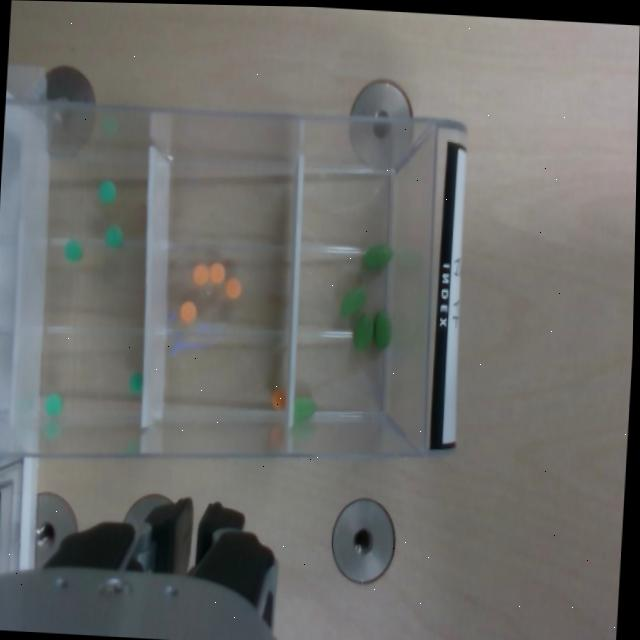famodine: (97, 178, 117, 203), (63, 237, 83, 261), (105, 225, 123, 248), (43, 393, 61, 416), (128, 371, 144, 394)
otillen_tab: (339, 286, 367, 317), (363, 243, 392, 271), (353, 313, 374, 348), (373, 310, 391, 349), (293, 396, 315, 419)
samsung_octylonium_tab: (224, 276, 242, 299), (208, 262, 225, 285), (180, 300, 197, 323), (192, 263, 209, 285), (271, 388, 287, 410)
